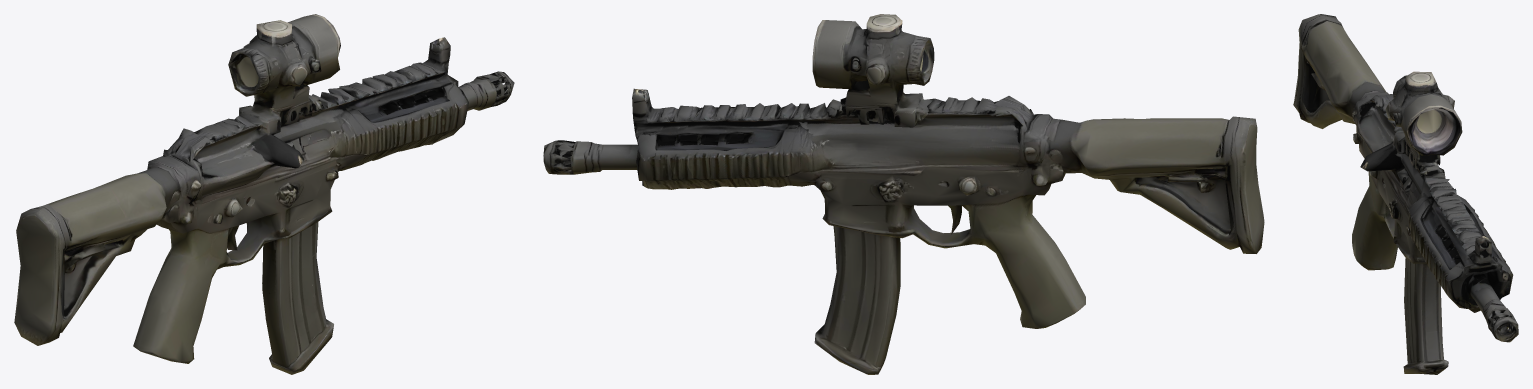
Rendered from carbine_optic.raw.glb.
3 views of the same model, side by side, from view 1: azimuth 30°, elevation 25°; view 2: azimuth 150°, elevation 25°; view 3: azimuth 270°, elevation 25° (orthographic). The views are drawn at different scales.
Parts seen in each view (by area): view 1: tripo_node_c7df0af4-9330-46f3-af0d-76e5e1caebea; view 2: tripo_node_c7df0af4-9330-46f3-af0d-76e5e1caebea; view 3: tripo_node_c7df0af4-9330-46f3-af0d-76e5e1caebea.
Boxes of the visible parts, x1,y1,x2,y2 form: tripo_node_c7df0af4-9330-46f3-af0d-76e5e1caebea: [14, 14, 514, 374]; tripo_node_c7df0af4-9330-46f3-af0d-76e5e1caebea: [543, 14, 1264, 374]; tripo_node_c7df0af4-9330-46f3-af0d-76e5e1caebea: [1293, 14, 1518, 374].
Size of the model in its own units: 1 by 0.5541 by 0.3881.
1 material, 1 textured.
